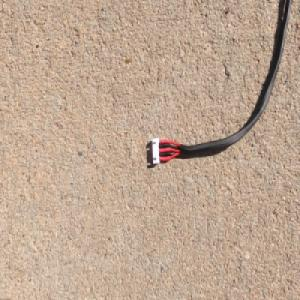Wire: (150, 0, 293, 167)
